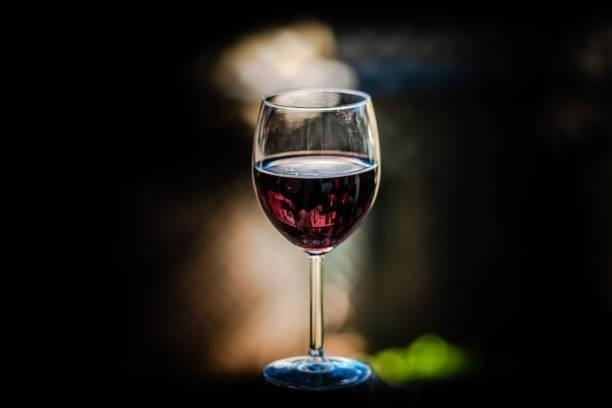glass-wine: (251, 86, 381, 391)
